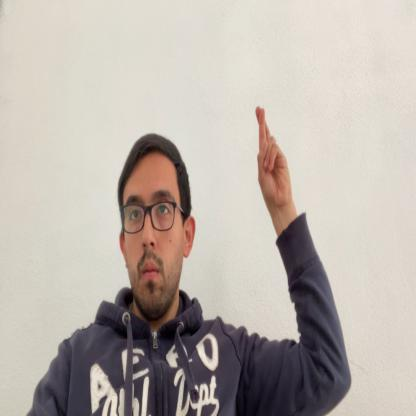R: (255, 103, 291, 205)
